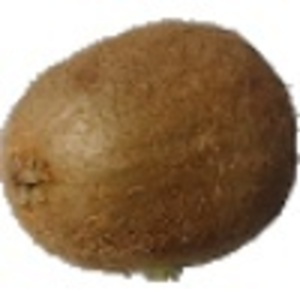kiwi: (1, 17, 300, 286)
